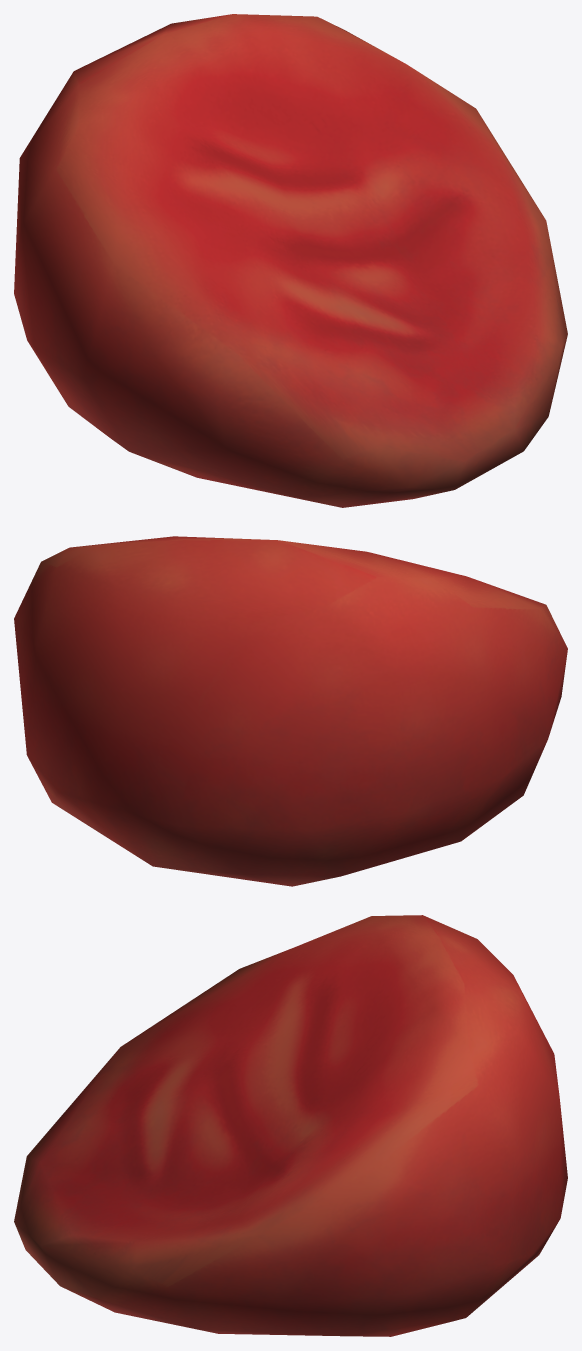
Rendered from SM_ChillBag_red.glb.
3 views of the same model, one above another, from view 1: azimuth 30°, elevation 25°; view 2: azimuth 150°, elevation 25°; view 3: azimuth 270°, elevation 25° (orthographic). The views are drawn at different scales.
Parts seen in each view (by area): view 1: SM_ChillBag_red; view 2: SM_ChillBag_red; view 3: SM_ChillBag_red.
Part boxes in pixels (x1=…): SM_ChillBag_red: x1=14, y1=14, x2=567, y2=507; SM_ChillBag_red: x1=14, y1=536, x2=567, y2=886; SM_ChillBag_red: x1=14, y1=915, x2=567, y2=1336.
Size of the model in its own units: 1.07 by 0.7346 by 1.17.
1 material, 1 textured.
